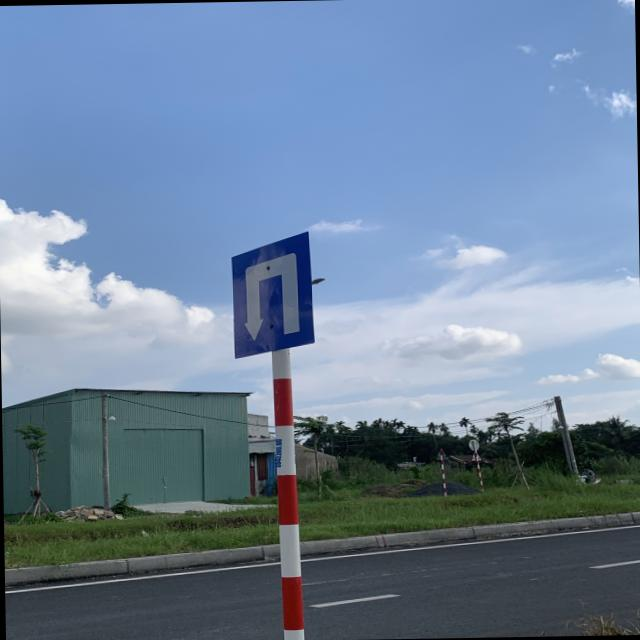Den_Giao_Thong: (231, 230, 317, 358)
